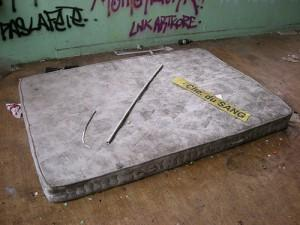Bed-Mattress: (12, 43, 296, 209)
